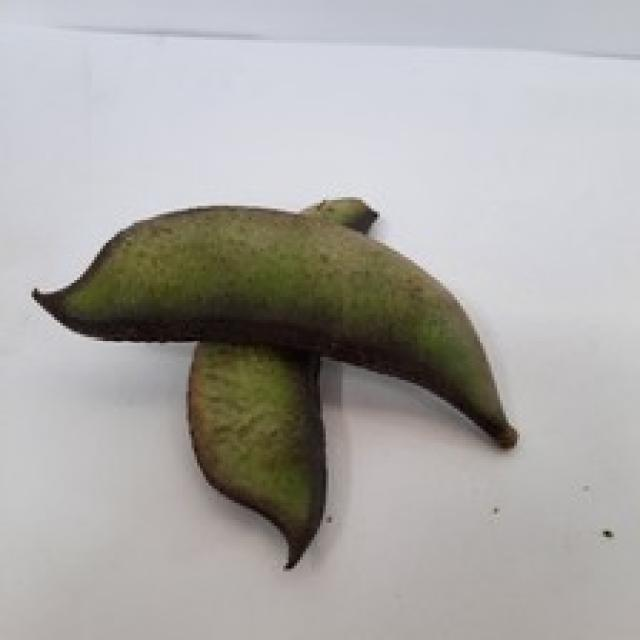Bean: (29, 194, 517, 449), (186, 337, 326, 569)
